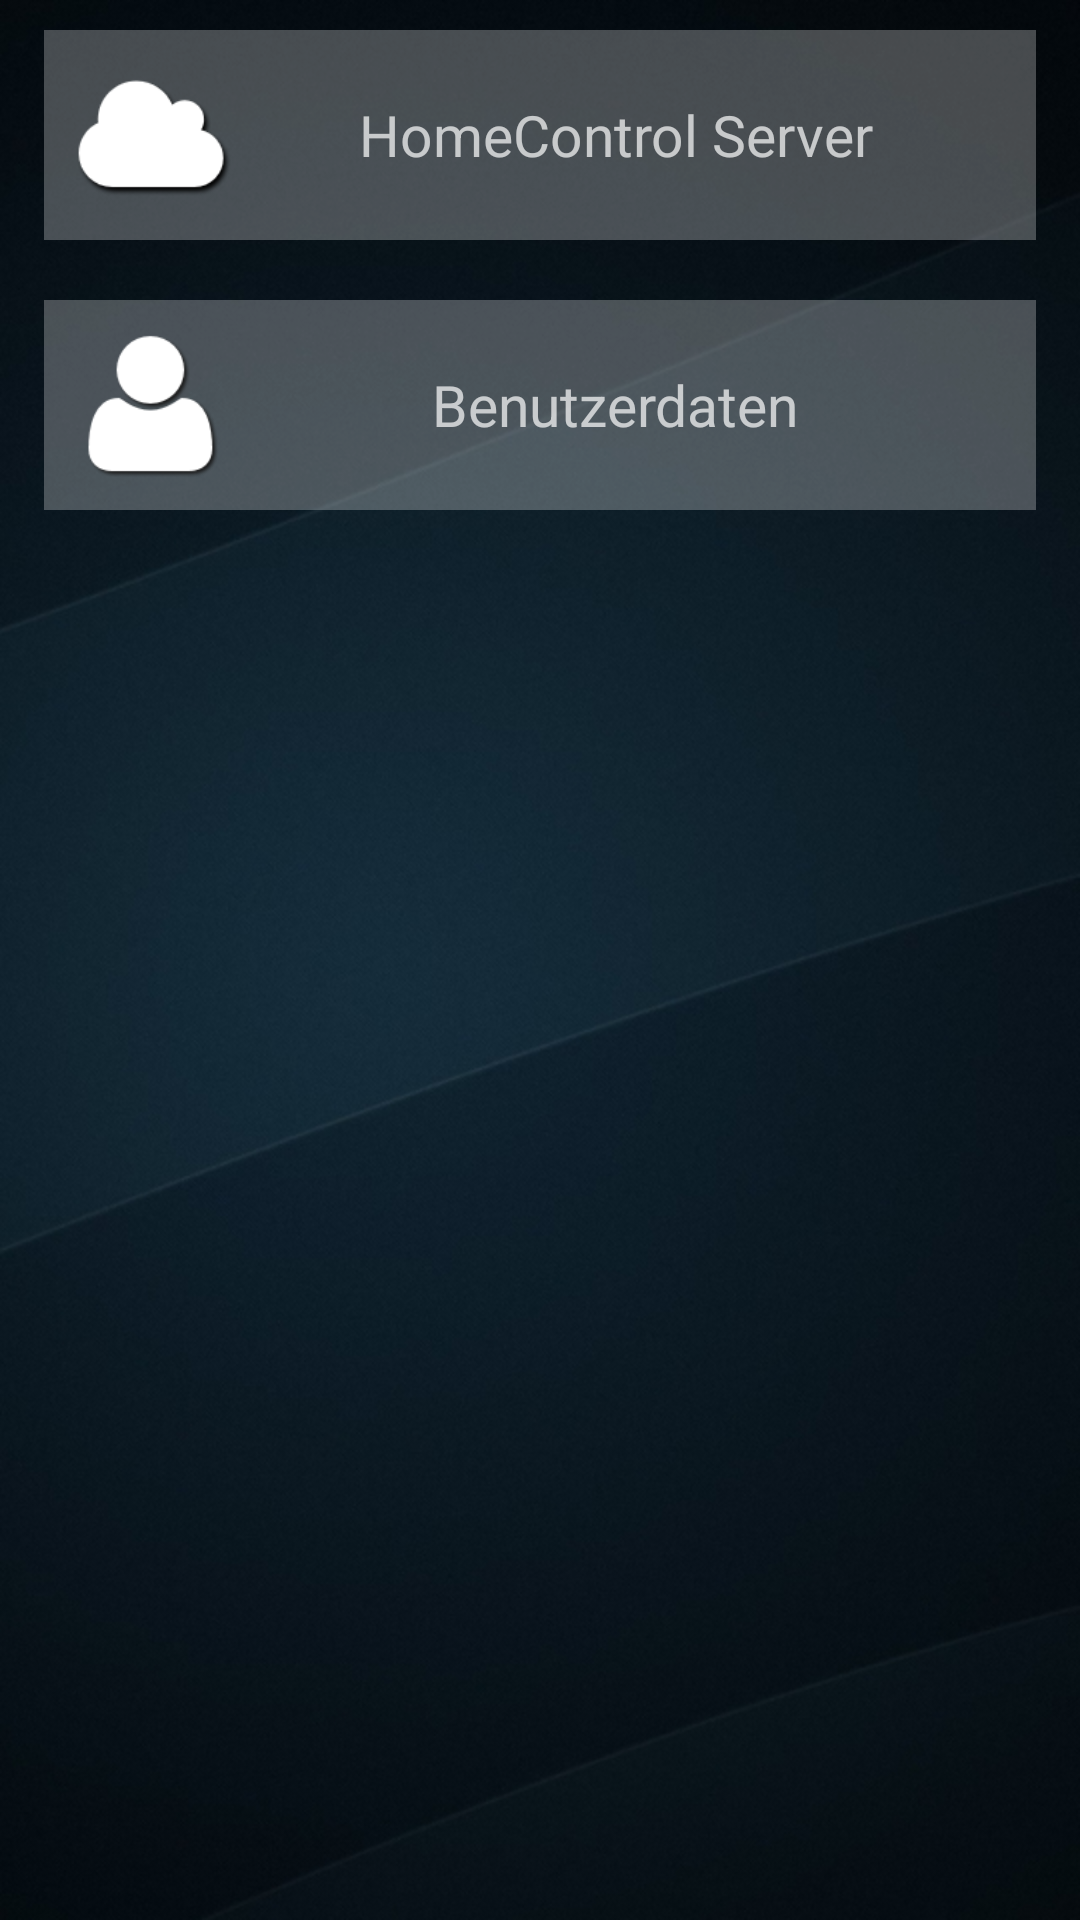

Where to tap for icons on this 1080×1920 app screen, as [x,y]:
settings cloud: [152,136]
settings user: [152,405]
